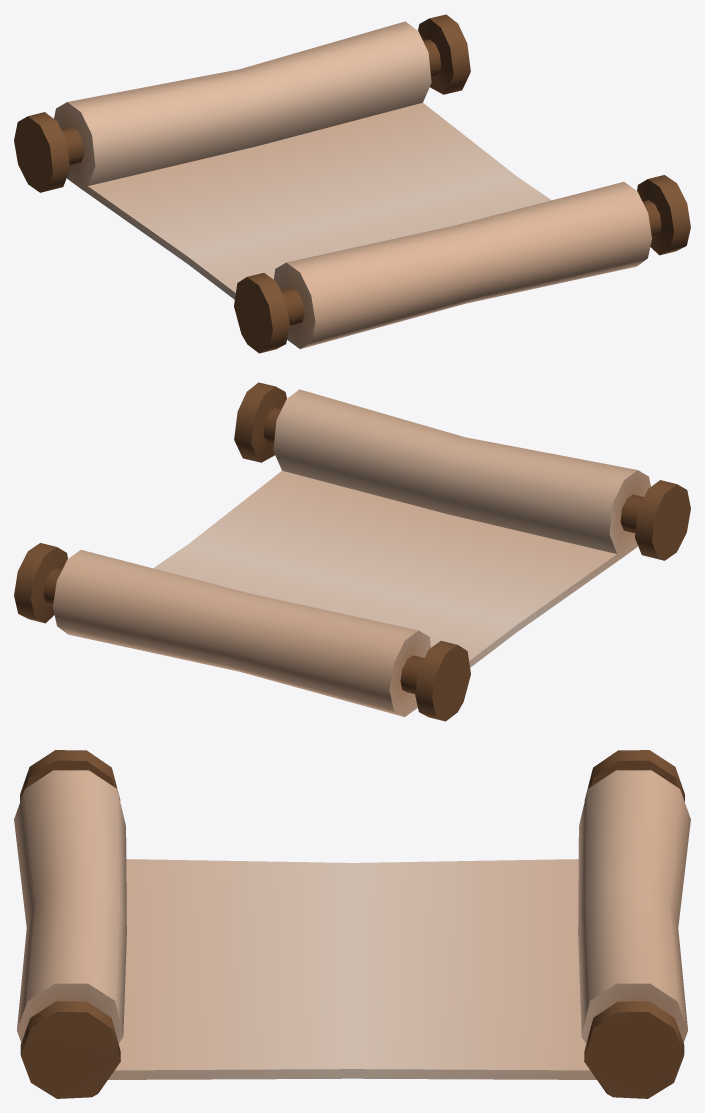
Rendered from PaperScrollOpen2.fbx.
3 renders of one model, top to bottom at view 1: azimuth 30°, elevation 25°; view 2: azimuth 150°, elevation 25°; view 3: azimuth 270°, elevation 25°, orthographic. The views are drawn at different scales.
Parts seen in each view (by area): view 1: PaperScrollOpen2; view 2: PaperScrollOpen2; view 3: PaperScrollOpen2.
Part boxes in pixels (box(x1,y1,x2,y2)): PaperScrollOpen2: box(14, 14, 690, 353); PaperScrollOpen2: box(14, 382, 690, 721); PaperScrollOpen2: box(14, 750, 690, 1098).
Bounding box in the file's own units: 27.69 × 4.91 × 30.2.
